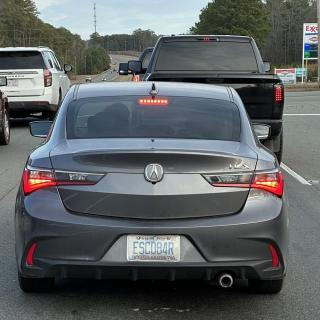license: (127, 235, 181, 263)
